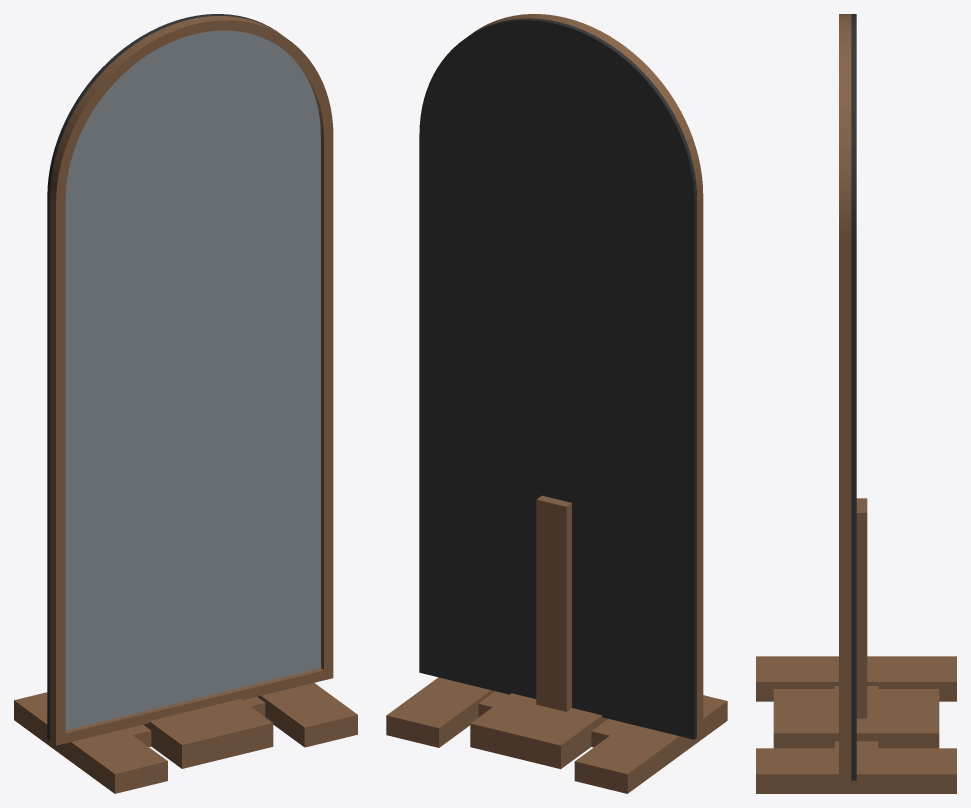
3 renders of one model, left to right at view 1: azimuth 30°, elevation 25°; view 2: azimuth 150°, elevation 25°; view 3: azimuth 270°, elevation 25°, orthographic.
Parts seen in each view (by area): view 1: mirror-surface, mirror-frame, mirror-base, mirror-shoe-left, mirror-shoe-right, mirror-back, mirror-crossbrace; view 2: mirror-back, mirror-post, mirror-base, mirror-frame, mirror-shoe-left, mirror-shoe-right, mirror-crossbrace; view 3: mirror-frame, mirror-shoe-right, mirror-base, mirror-shoe-left, mirror-back, mirror-post.
Boxes of the visible parts, <box> form: mirror-surface: <box>65,30,320,730</box>; mirror-frame: <box>50,16,333,745</box>; mirror-base: <box>143,699,273,768</box>; mirror-shoe-left: <box>14,692,167,793</box>; mirror-shoe-right: <box>257,683,357,747</box>; mirror-back: <box>47,14,277,740</box>; mirror-crossbrace: <box>59,697,265,764</box>; mirror-back: <box>419,18,696,739</box>; mirror-post: <box>536,495,571,711</box>; mirror-base: <box>470,693,607,768</box>; mirror-frame: <box>470,14,703,737</box>; mirror-shoe-left: <box>574,695,727,793</box>; mirror-shoe-right: <box>386,677,494,747</box>; mirror-crossbrace: <box>478,691,687,749</box>; mirror-frame: <box>839,14,851,780</box>; mirror-shoe-right: <box>756,748,956,793</box>; mirror-base: <box>773,689,939,748</box>; mirror-shoe-left: <box>756,656,956,701</box>; mirror-back: <box>851,14,856,780</box>; mirror-post: <box>856,498,867,718</box>.
Size of the model in its own units: 0.73 by 1.79 by 0.46.
